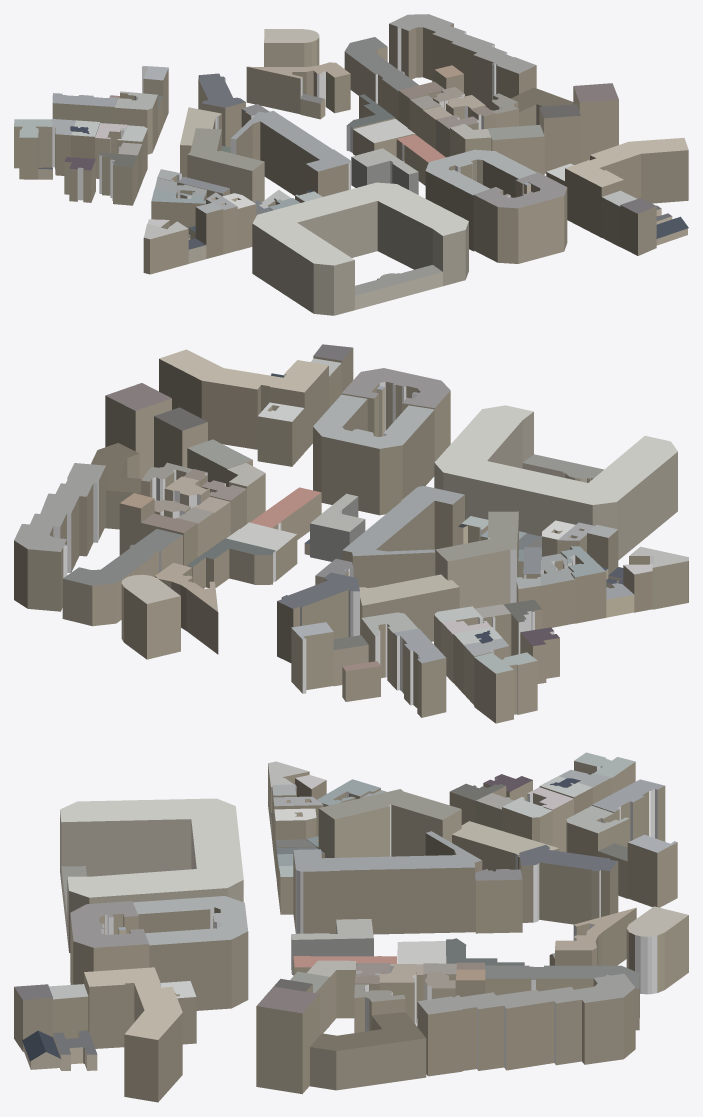
3 views of the same model, one above another, from view 1: azimuth 30°, elevation 25°; view 2: azimuth 150°, elevation 25°; view 3: azimuth 270°, elevation 25° (orthographic). The views are drawn at different scales.
Visible parts, largest first — view 1: tuile; view 2: tuile; view 3: tuile.
Part boxes in pixels (x1,y1,x2,y2): tuile: [14, 14, 688, 315]; tuile: [14, 344, 688, 723]; tuile: [14, 752, 688, 1102].
Bounding box in the file's own units: 272 × 36.24 × 261.
